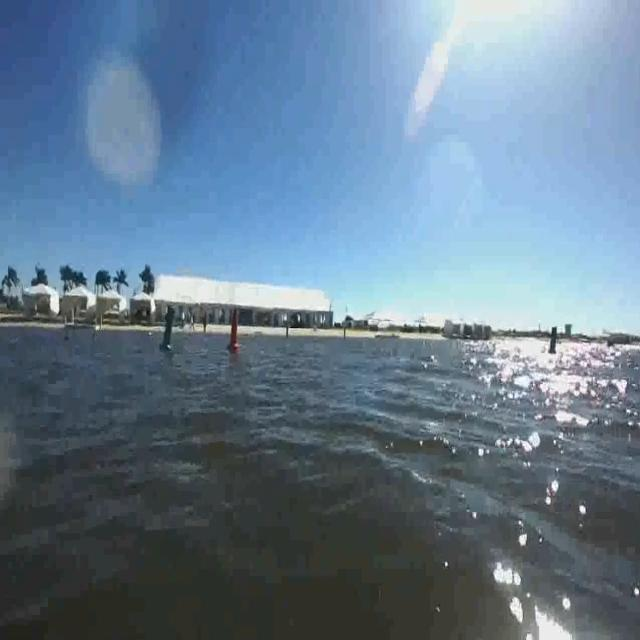green-column-buoy: (161, 308, 178, 353)
red-column-buoy: (227, 311, 240, 355)
